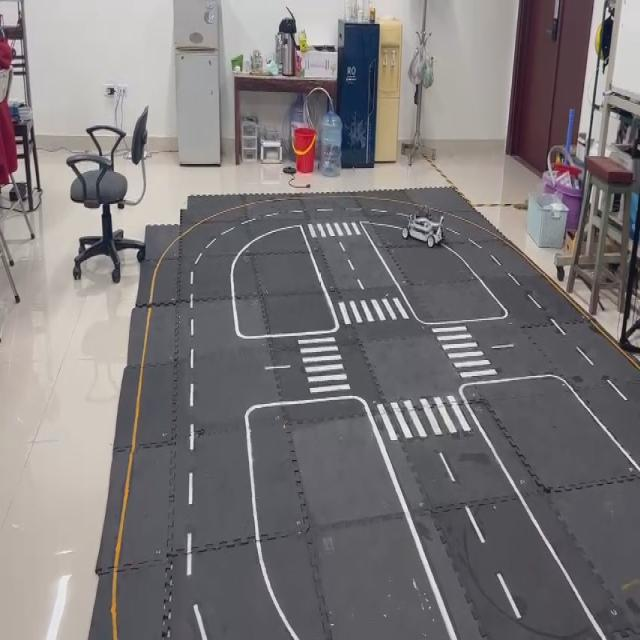SiCo-CAR: (401, 207, 445, 248)
